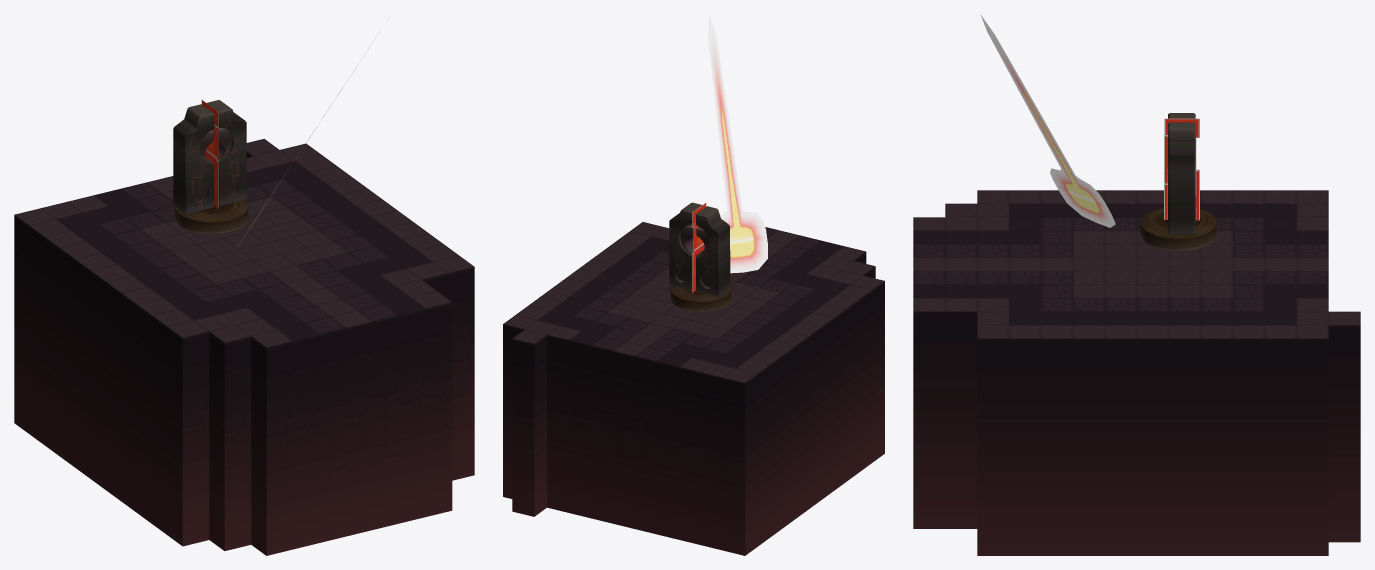
File: room_boss.fbx
The picture shows the model from 3 angles, left to right: view 1: azimuth 30°, elevation 25°; view 2: azimuth 150°, elevation 25°; view 3: azimuth 270°, elevation 25°; orthographic projection. The views are drawn at different scales.
Parts seen in each view (by area): view 1: base (×2), piece_target (1), piece_target (2); view 2: base (×2), fx_light_item, piece_target (1), piece_target (2); view 3: base (×2), piece_target (1), fx_light_item.
Boxes of the visible parts, x1,y1,x2,y2 form: base (×2): (14,139,474,555); piece_target (1): (173,100,246,214); piece_target (2): (192,127,236,201); base (×2): (503,222,884,555); fx_light_item: (708,15,767,273); piece_target (1): (669,202,730,297); piece_target (2): (680,224,714,286); base (×2): (913,190,1360,555); piece_target (1): (1168,113,1195,234); fx_light_item: (980,14,1115,227).
Size of the model in its own units: 11 by 17.28 by 14.
Materials: 6 (6 with a texture image).
